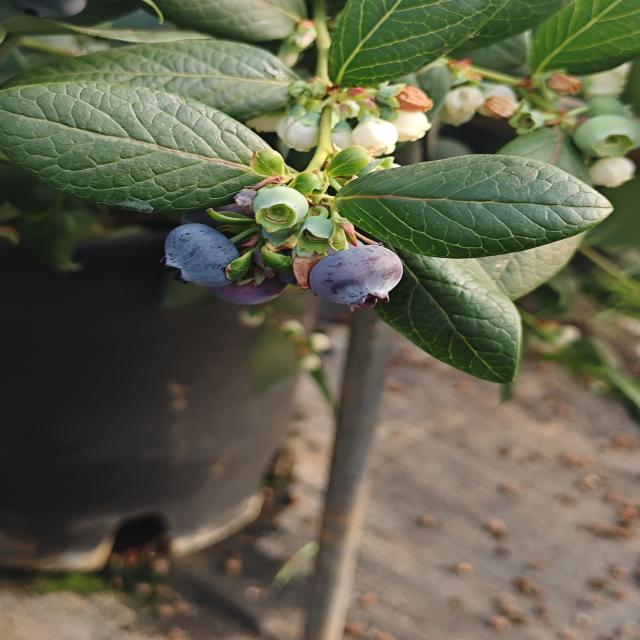ripe: (306, 243, 406, 313), (160, 216, 245, 290), (214, 244, 290, 308)
